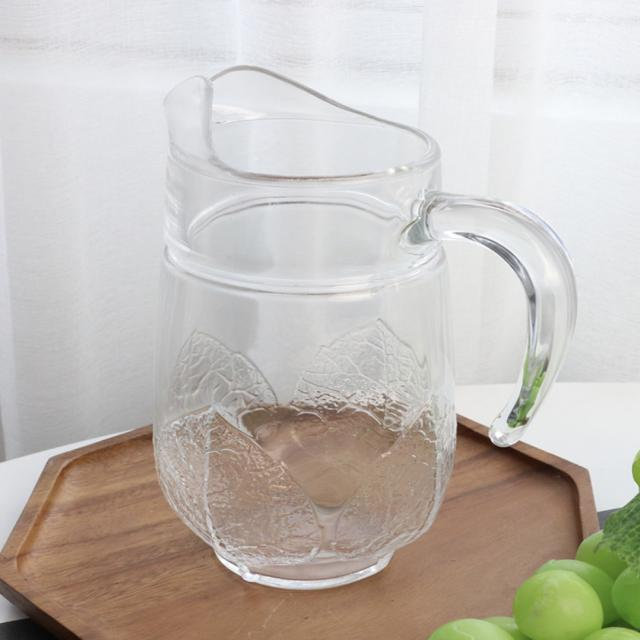recyclable: (109, 32, 579, 600)
